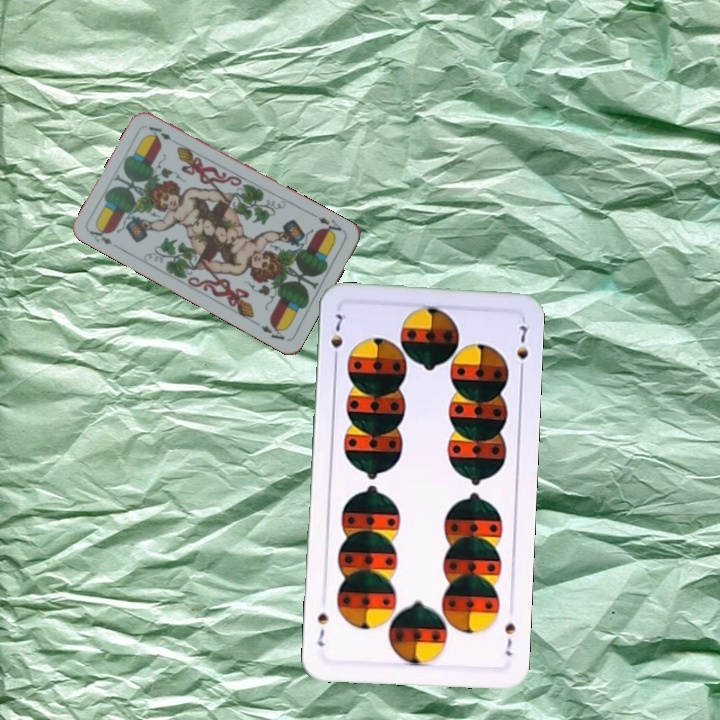EA: (314, 213, 347, 239), (85, 222, 115, 248)
S7: (326, 308, 346, 366), (500, 619, 518, 658)
